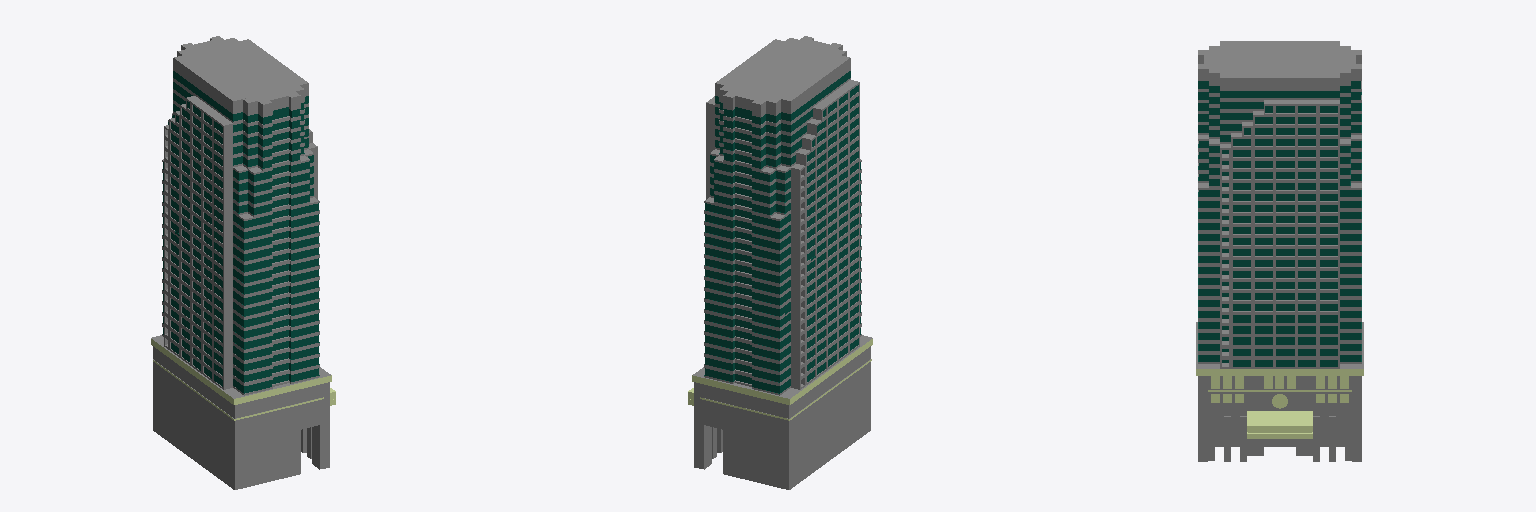
File: MEM1.obj
3 renders of one model, left to right at view 1: azimuth 30°, elevation 25°; view 2: azimuth 150°, elevation 25°; view 3: azimuth 270°, elevation 25°, orthographic.
Parts seen in each view (by area): view 1: MEM; view 2: MEM; view 3: MEM.
Part boxes in pixels (bbox=[...]): MEM: bbox=[151, 36, 335, 489]; MEM: bbox=[688, 36, 872, 489]; MEM: bbox=[1196, 41, 1363, 461].
Bounding box in the file's own units: 169 × 479 × 192.